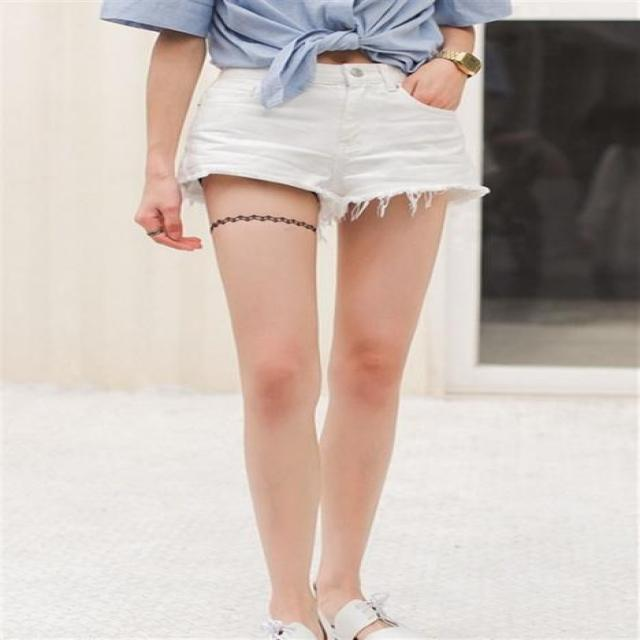short sleeve top: (100, 0, 439, 74)
shorts: (181, 56, 488, 205)
